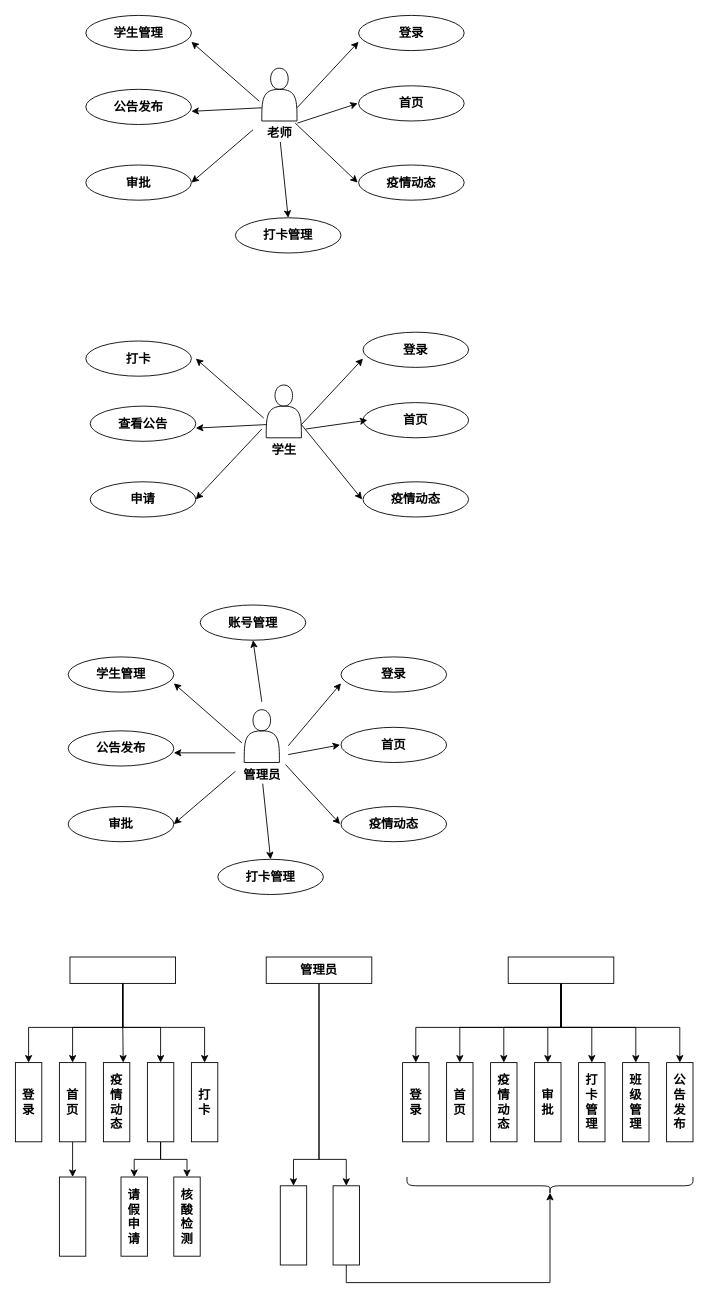
The diagram is 708 pixels wide and 1305 high, and some of its shapes have lost their labels. The shapes that lost their labels are listed below. From the top down, each one's centre as x and y in pixels, then its label:
[122,969]: 学生端
[560,969]: 教师端
[160,1102]: 申 请
[72,1216]: 公 告 信 息
[293,1225]: 账 号 管 理
[345,1225]: 信 息 管 理
